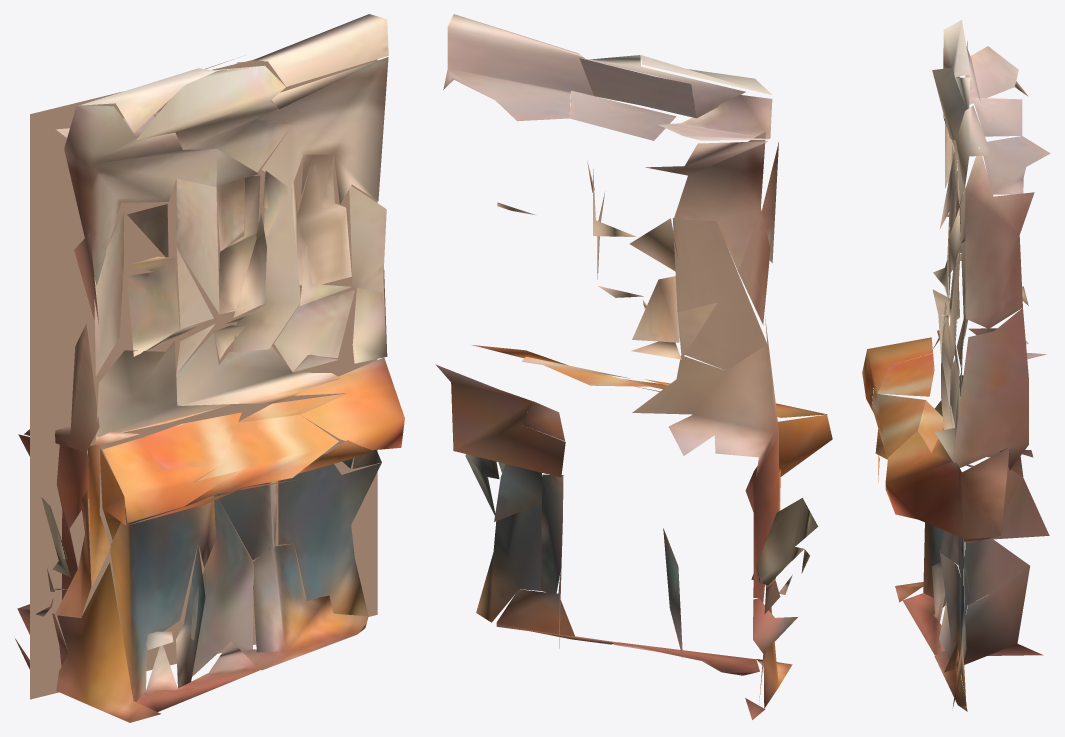
The model's file is shop_far.glb.
3 views of the same model, side by side, from view 1: azimuth 30°, elevation 25°; view 2: azimuth 150°, elevation 25°; view 3: azimuth 270°, elevation 25° (orthographic). The views are drawn at different scales.
Visible parts, largest first — view 1: tripo_node_01a21d0b-98df-7bd6-81a4-4114aa65b3a5; view 2: tripo_node_01a21d0b-98df-7bd6-81a4-4114aa65b3a5; view 3: tripo_node_01a21d0b-98df-7bd6-81a4-4114aa65b3a5.
Part boxes in pixels (x1=…): tripo_node_01a21d0b-98df-7bd6-81a4-4114aa65b3a5: x1=15, y1=14, x2=404, y2=722; tripo_node_01a21d0b-98df-7bd6-81a4-4114aa65b3a5: x1=435, y1=14, x2=832, y2=719; tripo_node_01a21d0b-98df-7bd6-81a4-4114aa65b3a5: x1=862, y1=20, x2=1050, y2=711.
Size of the model in its own units: 7.01 by 11.64 by 3.52.
1 material, 1 textured.
